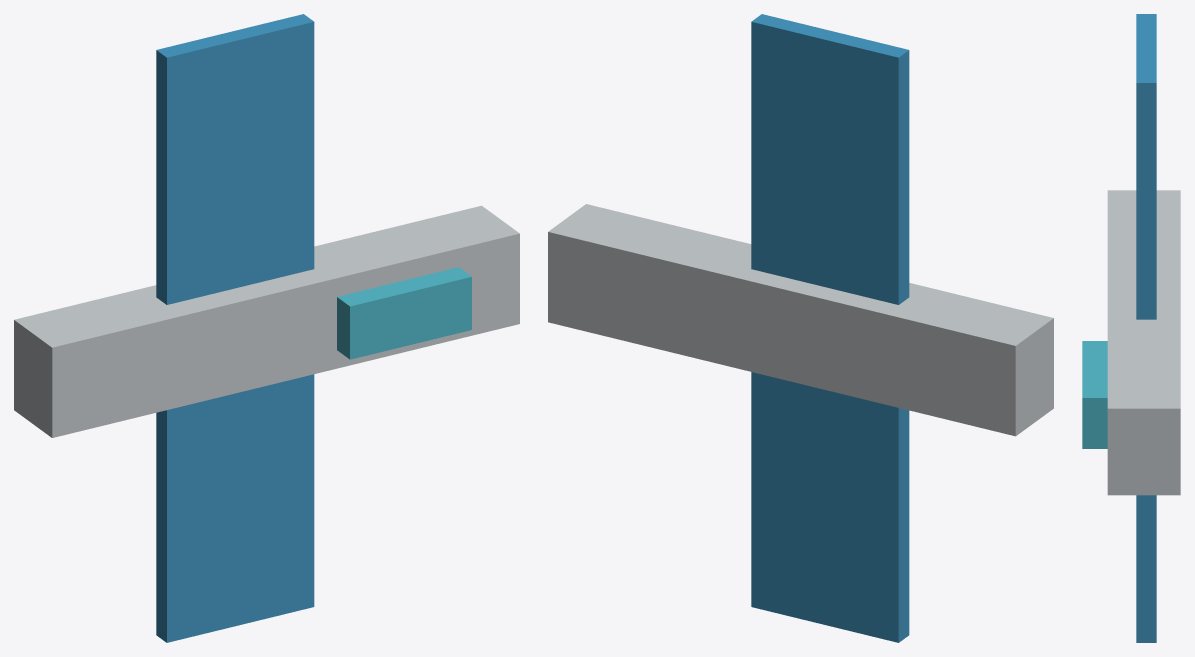
Rendered from u_bomber.glb.
3 renders of one model, left to right at view 1: azimuth 30°, elevation 25°; view 2: azimuth 150°, elevation 25°; view 3: azimuth 270°, elevation 25°, orthographic. The views are drawn at different scales.
Visible parts, largest first — view 1: wings, fuselage, cockpit; view 2: wings, fuselage; view 3: fuselage, wings, cockpit.
Part boxes in pixels (<box>): wings: <box>156,14,314,642</box>; fuselage: <box>14,205,519,437</box>; cockpit: <box>337,267,471,359</box>; wings: <box>751,14,909,642</box>; fuselage: <box>548,204,1053,436</box>; fuselage: <box>1107,190,1180,495</box>; wings: <box>1136,14,1156,642</box>; cockpit: <box>1082,341,1107,448</box>.
Size of the model in its own units: 4.6 by 5.5 by 0.875.
